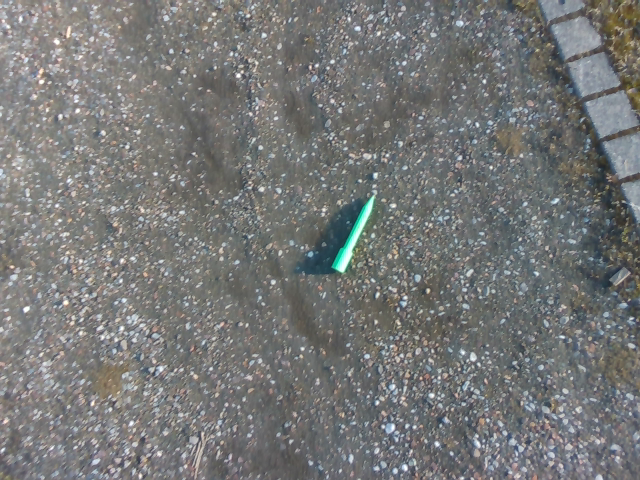Probe: (327, 186, 384, 279)
